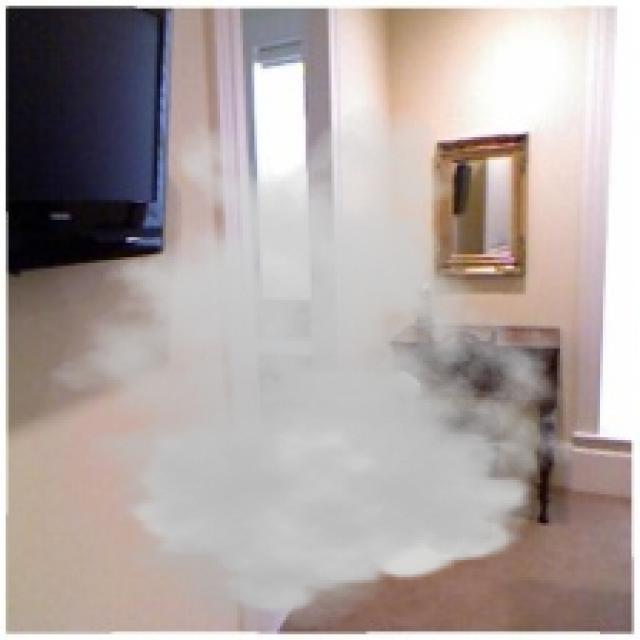Smoke: (20, 103, 589, 632)
